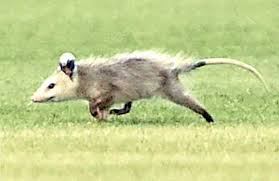opossum: (30, 49, 269, 125)
